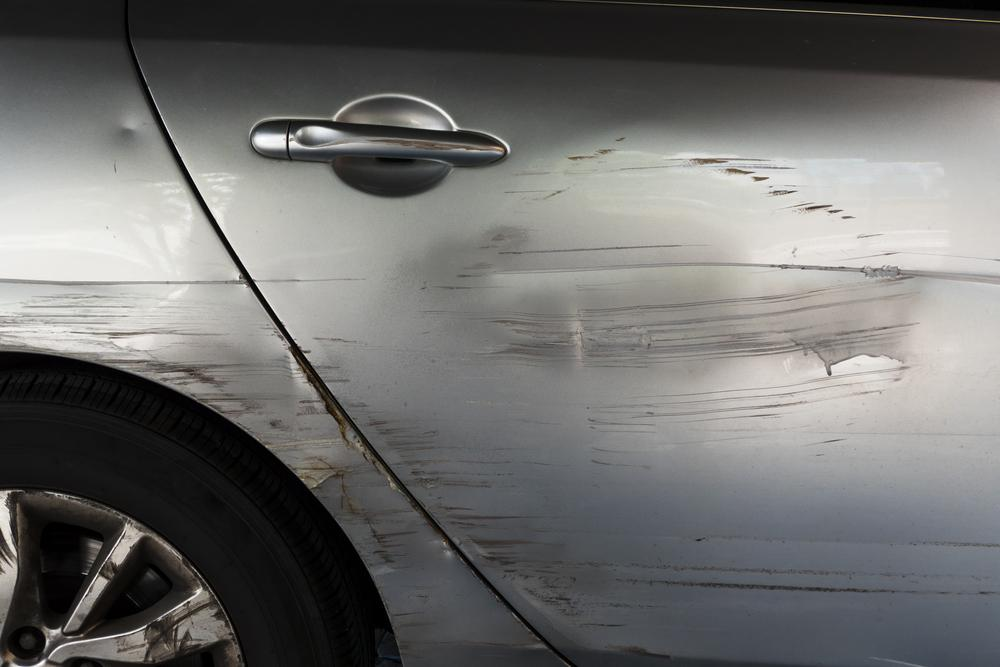dent: (399, 230, 945, 435), (111, 116, 145, 144)
scratch: (281, 326, 1000, 663), (0, 291, 448, 667), (504, 134, 913, 288)
